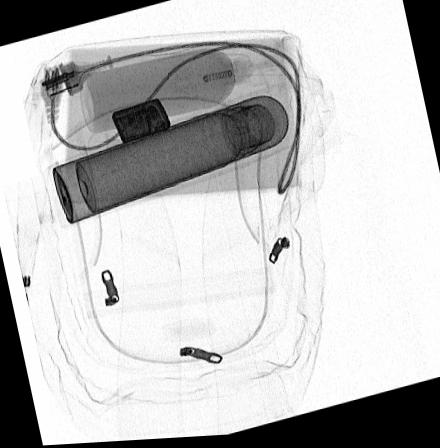Lighter: (110, 100, 169, 145)
